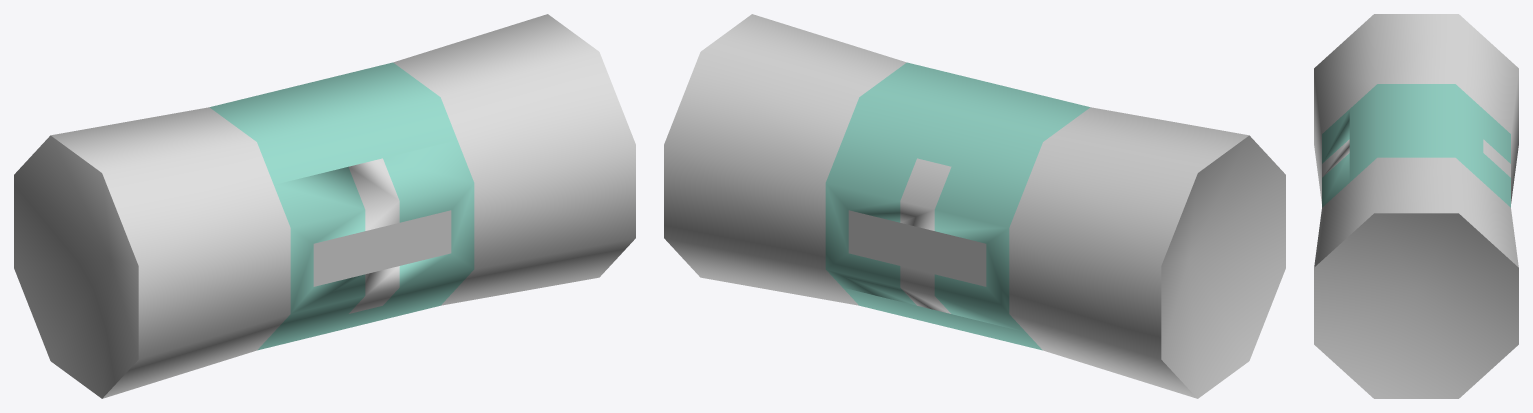
File: Bandage.fbx
The picture shows the model from 3 angles, left to right: view 1: azimuth 30°, elevation 25°; view 2: azimuth 150°, elevation 25°; view 3: azimuth 270°, elevation 25°; orthographic projection. The views are drawn at different scales.
Visible parts, largest first — view 1: Bandage; view 2: Bandage; view 3: Bandage.
Boxes of the visible parts, box(x1,y1,x2,y2) form: Bandage: box(14, 14, 635, 398); Bandage: box(664, 14, 1285, 398); Bandage: box(1314, 14, 1518, 398).
Bounding box in the file's own units: 0.0784 × 0.034 × 0.034.
